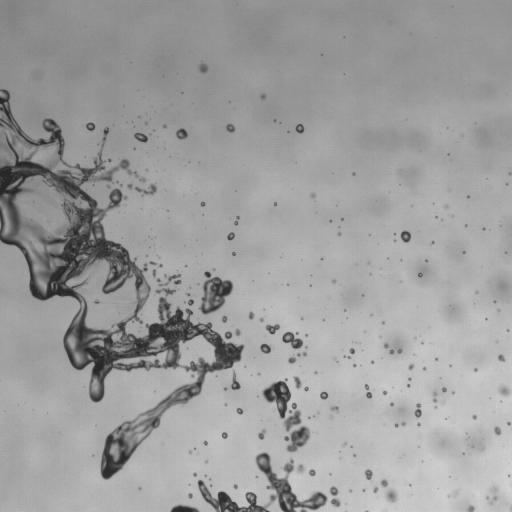droplet: (199, 271, 233, 314), (282, 331, 303, 349), (384, 488, 397, 502), (486, 485, 497, 501), (230, 372, 240, 389), (498, 385, 511, 396), (265, 324, 279, 334), (400, 230, 411, 242), (134, 132, 147, 142), (176, 128, 187, 139), (260, 344, 271, 353), (293, 376, 301, 388), (186, 293, 193, 305), (198, 64, 207, 73), (258, 429, 266, 439), (364, 469, 372, 479), (226, 124, 235, 132), (86, 122, 94, 130), (288, 355, 296, 363), (320, 391, 328, 399), (296, 124, 303, 133), (494, 426, 501, 435), (227, 232, 234, 240), (380, 479, 387, 487), (498, 354, 505, 361), (330, 406, 338, 412), (466, 505, 474, 511), (248, 312, 254, 319), (408, 363, 414, 370), (236, 408, 243, 414), (309, 469, 315, 476), (221, 432, 227, 438), (93, 299, 100, 304), (222, 316, 227, 322), (235, 329, 240, 335), (299, 352, 306, 356), (260, 94, 265, 99), (310, 193, 315, 198), (389, 349, 394, 354), (397, 348, 402, 353), (373, 486, 377, 492), (152, 269, 155, 276), (201, 201, 205, 206), (384, 343, 388, 348), (442, 387, 446, 392), (188, 493, 192, 498), (454, 490, 457, 496), (382, 390, 386, 394), (472, 415, 476, 419), (480, 446, 484, 450), (233, 484, 237, 488), (444, 204, 447, 208), (260, 318, 263, 322), (401, 422, 405, 425), (232, 252, 235, 255), (418, 273, 421, 276), (332, 279, 335, 282), (305, 387, 308, 390), (390, 402, 393, 405), (204, 441, 207, 444), (193, 473, 196, 476), (440, 402, 444, 404), (338, 232, 340, 235), (431, 241, 433, 244), (353, 364, 356, 366), (423, 367, 425, 370), (407, 384, 409, 387), (451, 391, 454, 393), (434, 406, 437, 408), (417, 423, 420, 425), (507, 422, 510, 424), (395, 424, 398, 426), (343, 443, 346, 445), (188, 451, 191, 453), (509, 172, 511, 174), (107, 185, 109, 187), (274, 203, 276, 205), (463, 251, 465, 253), (371, 361, 373, 363), (408, 378, 410, 380)
ligament: (0, 88, 244, 479), (197, 452, 327, 511), (262, 379, 311, 452), (127, 183, 156, 195), (329, 486, 340, 507), (170, 504, 199, 511), (414, 403, 421, 418), (364, 384, 371, 398), (346, 348, 354, 358), (432, 391, 437, 402), (234, 217, 238, 225), (509, 505, 511, 511), (365, 510, 368, 511)
